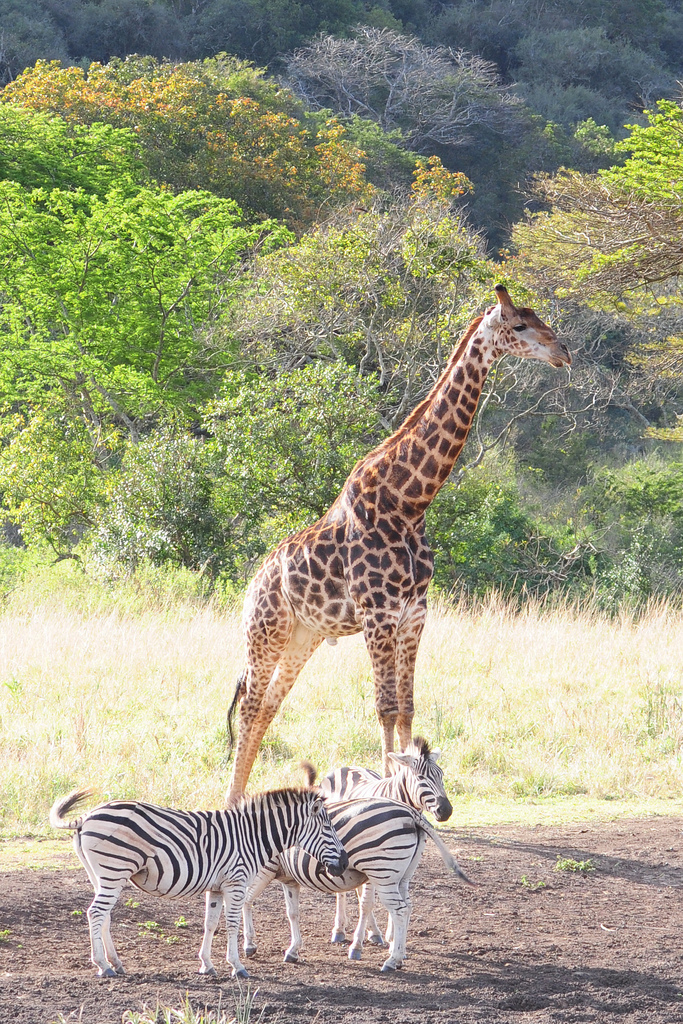giraffe: (218, 260, 571, 751)
